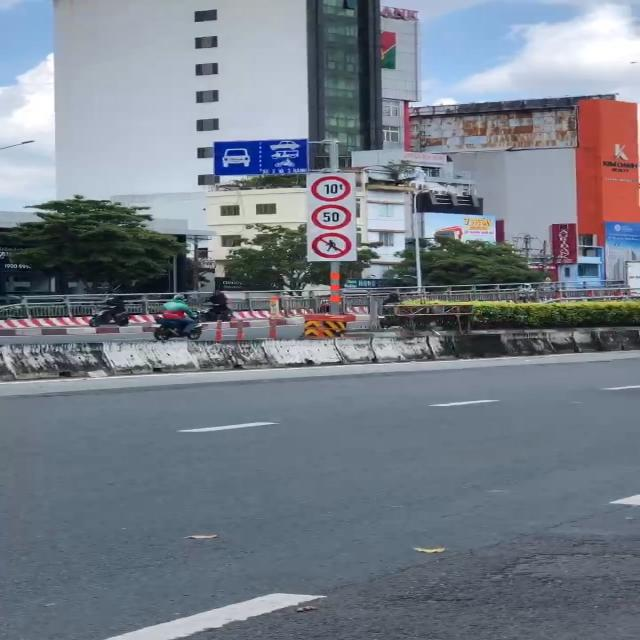Bien bao cam nguoi di bo: (310, 232, 356, 258)
Bien bao toc do toi da cho phep: (307, 204, 355, 232)
